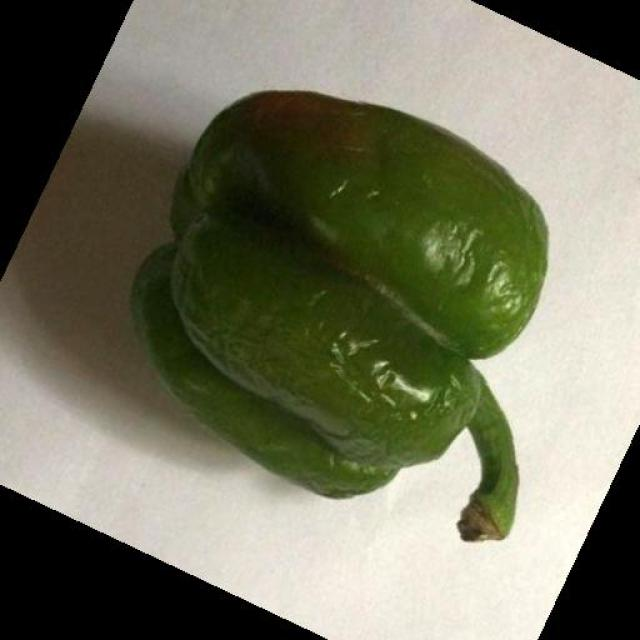Stale_Capsicum: (141, 80, 544, 518)
